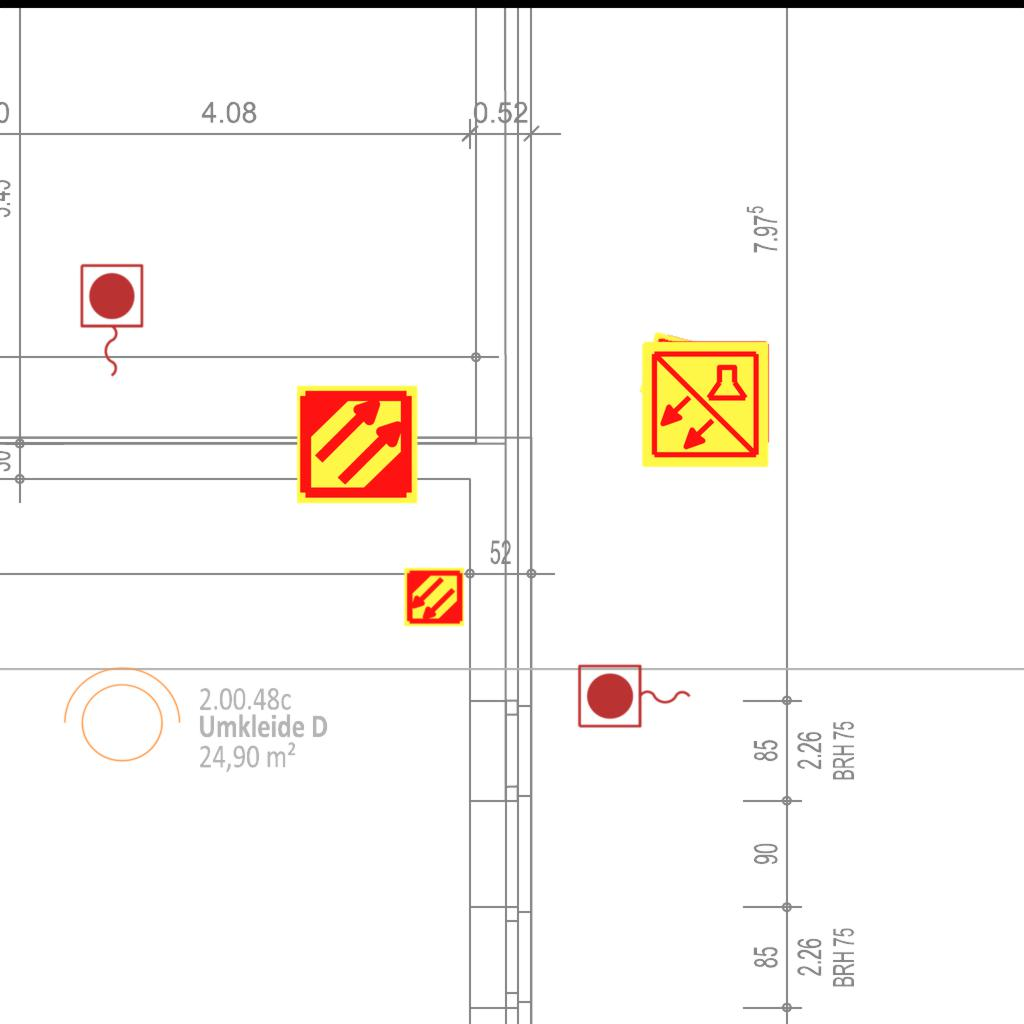ASR_Ansaugrauchmelder: (295, 382, 420, 507), (403, 566, 465, 628)
OKW_Multisensormelder_(Kombination_optischer_Rauch-Kahlenmonoxid_Waerme-Melder): (639, 338, 771, 470), (637, 329, 719, 411)
Scheinwerfer_fuer_Alarmbeleuchtung: (53, 662, 185, 774)
Zugtaster: (75, 260, 147, 382), (574, 661, 696, 733)
